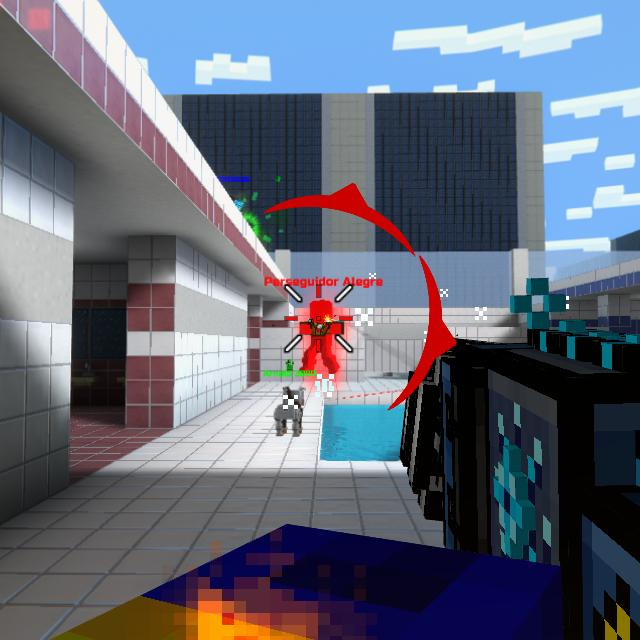Enemy: (303, 300, 342, 374)
